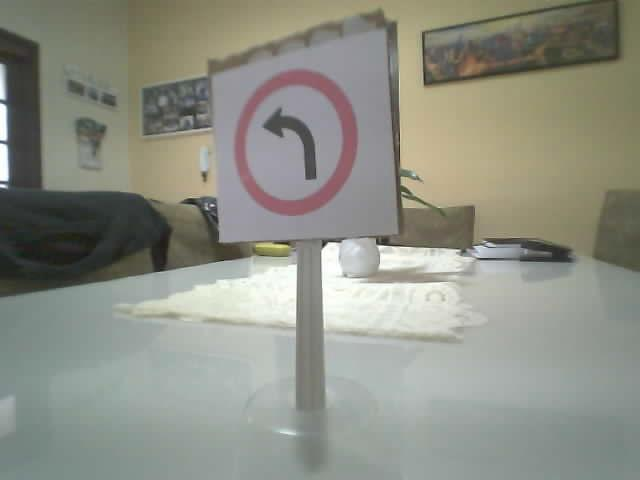R-25a_esquerda: (233, 68, 359, 216)
